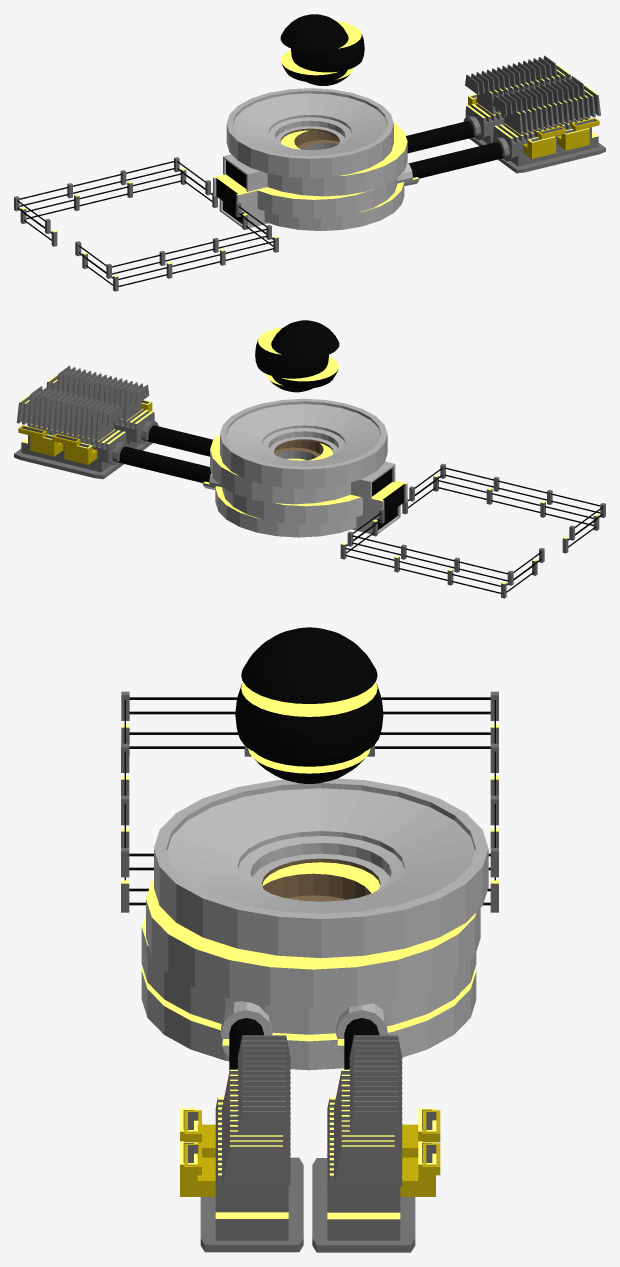
The model's file is ei_hatchery_universe_glitch.glb.
3 views of the same model, one above another, from view 1: azimuth 30°, elevation 25°; view 2: azimuth 150°, elevation 25°; view 3: azimuth 270°, elevation 25° (orthographic). The views are drawn at different scales.
Size of the model in its own units: 15.87 by 5.33 by 5.01.
